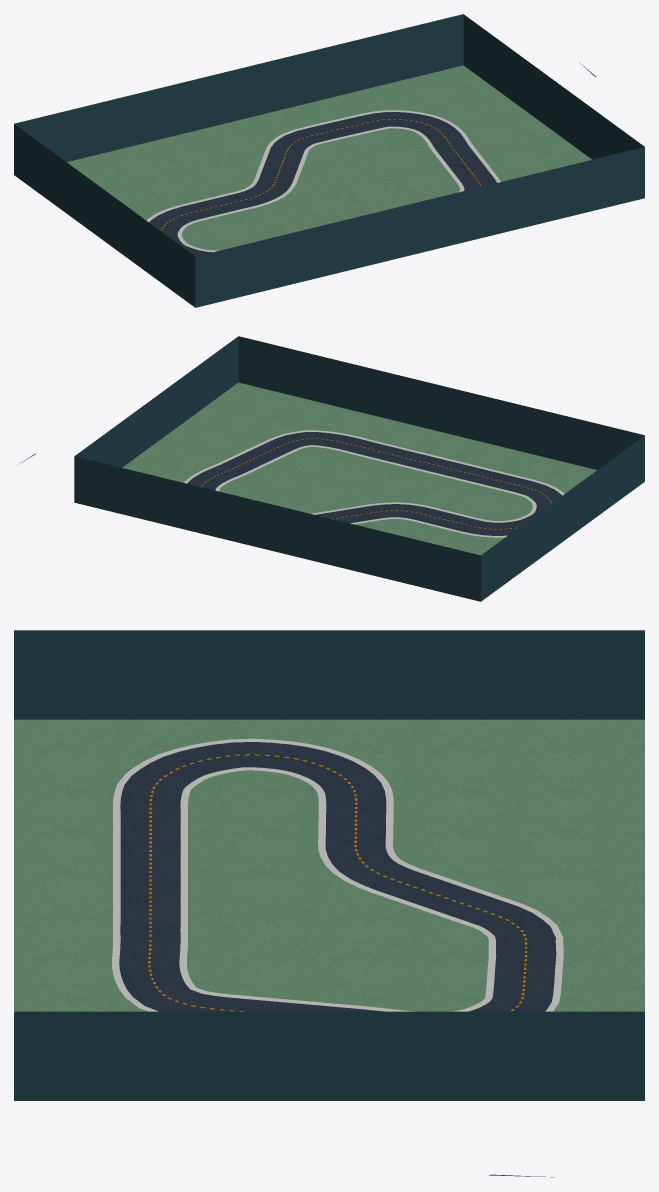
Rendered from 33_reinvent_base_track.dae.
3 views of the same model, one above another, from view 1: azimuth 30°, elevation 25°; view 2: azimuth 150°, elevation 25°; view 3: azimuth 270°, elevation 25° (orthographic). The views are drawn at different scales.
Visible parts, largest first — view 1: wall, field, road; view 2: wall, field, road; view 3: field, wall, road.
Part boxes in pixels (<box>): wall: <box>14,14,644,307</box>; field: <box>67,65,591,250</box>; road: <box>146,62,595,256</box>; wall: <box>74,336,644,601</box>; field: <box>122,382,596,555</box>; road: <box>18,430,564,537</box>; field: <box>14,719,644,1011</box>; wall: <box>14,630,644,1100</box>; road: <box>111,738,563,1177</box>.
Bounding box in the file's own units: 11 × 6.41 × 1.
6 materials, 6 textured.
